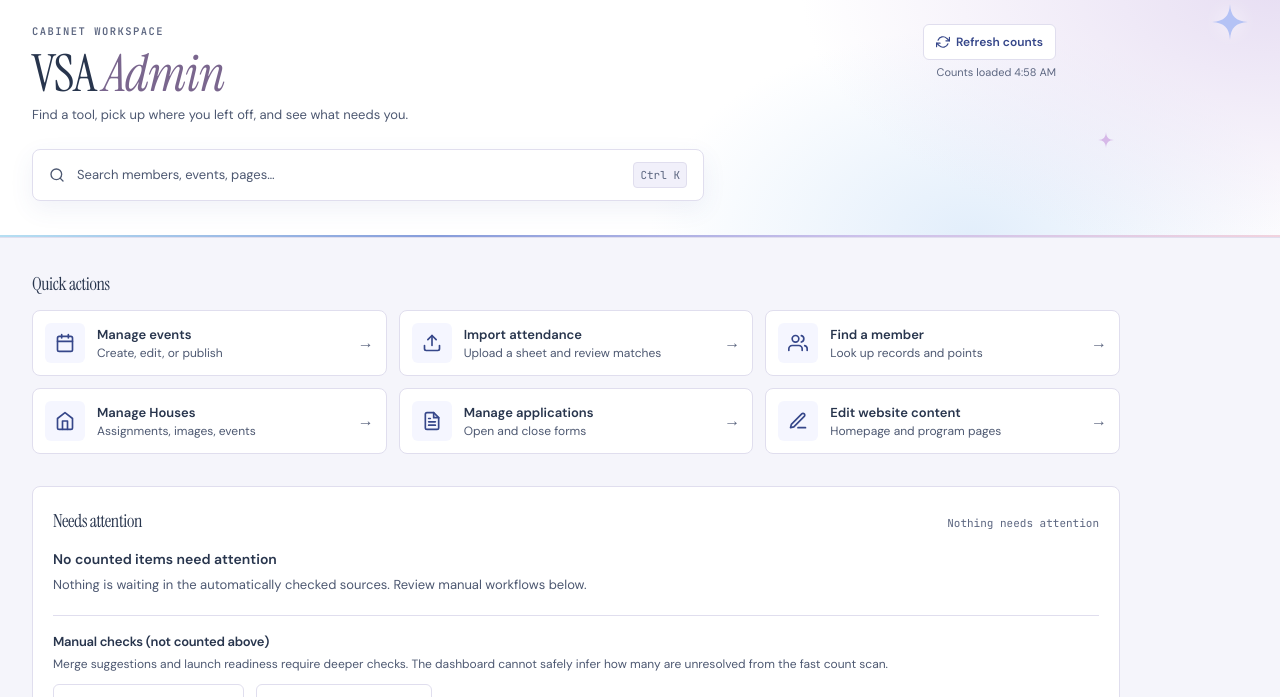
Test: Admin Overview health scan › re-scans when the admin presses Refresh counts
The width and height of the screenshot is (1280, 697).
Click the button "Refresh counts": coordinates (990, 42) [923, 24, 1056, 60]
(page scrolled)
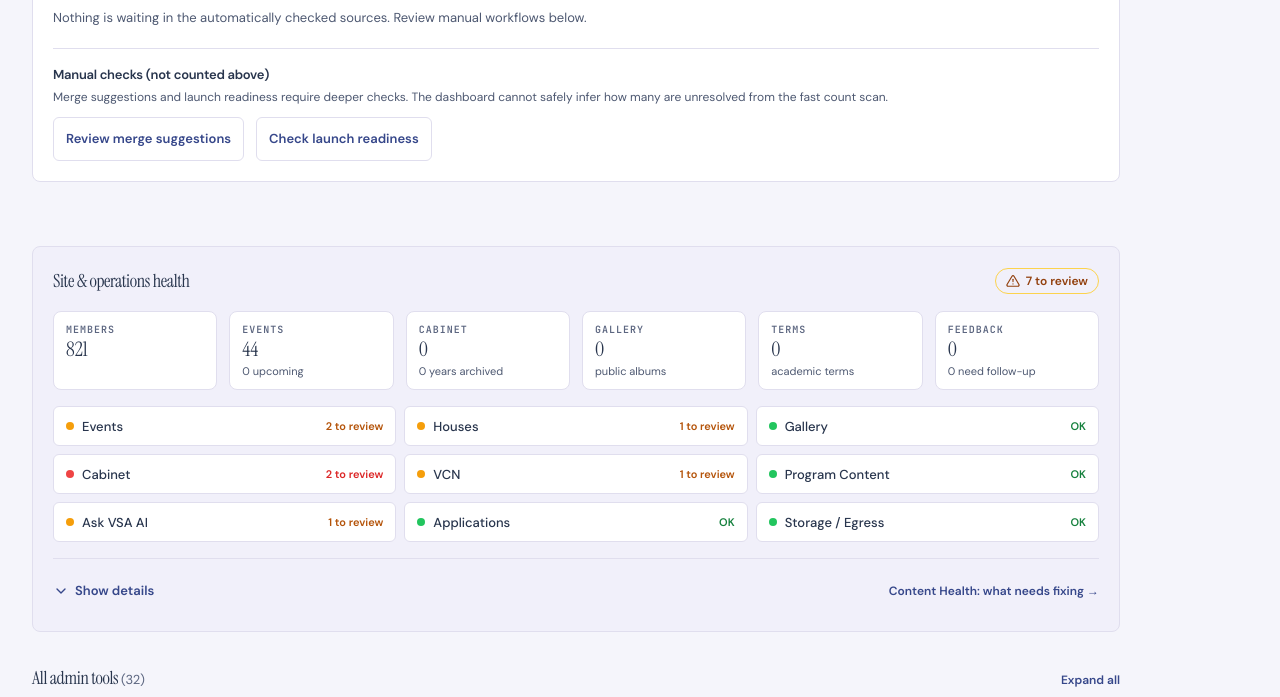
Expected: the text "821" is shown, [66, 336, 88, 362]
